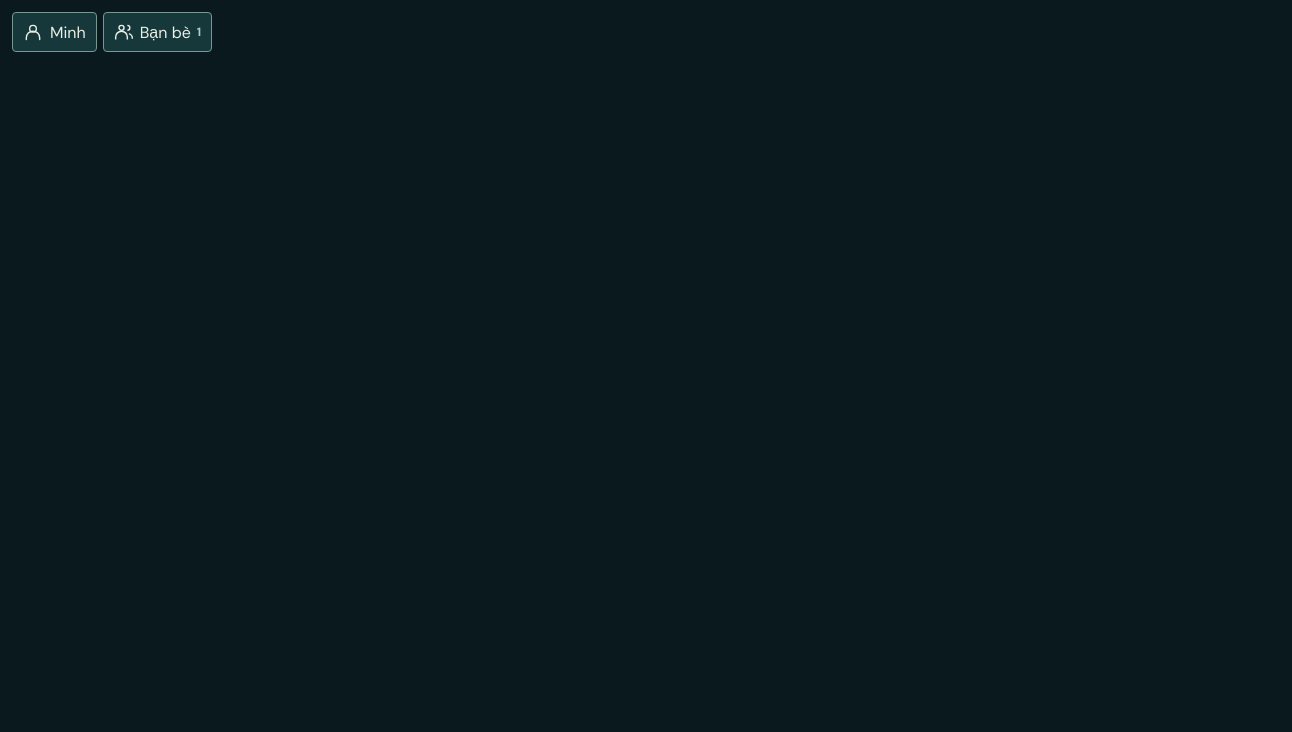
it: player code and online friends › prevents inviting when unavailable: {"inRoom":true}
Click the button with aria-label "Bạn bè, 1 người online" at (157, 32), box x1=103 y1=12 x2=212 y2=52
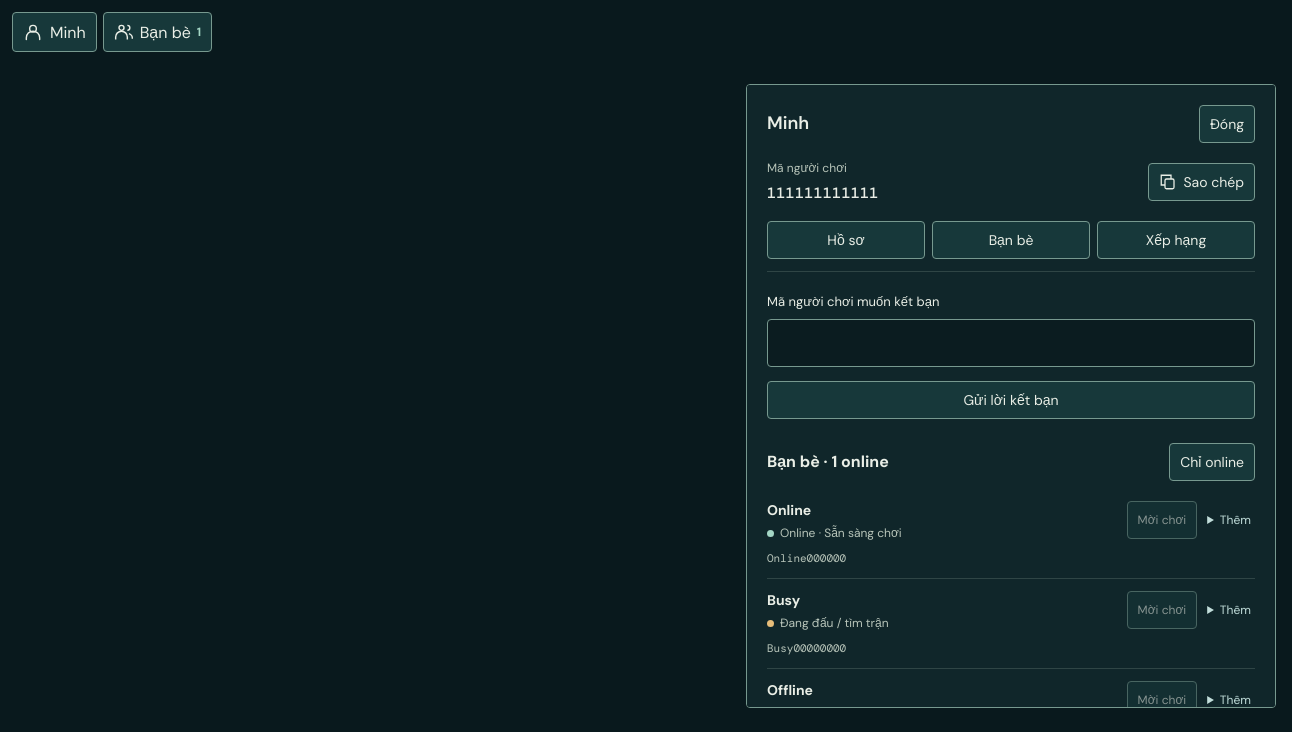
Check: the button with aria-label "Mời Online chơi" is disabled, box x1=1127 y1=501 x2=1197 y2=539
